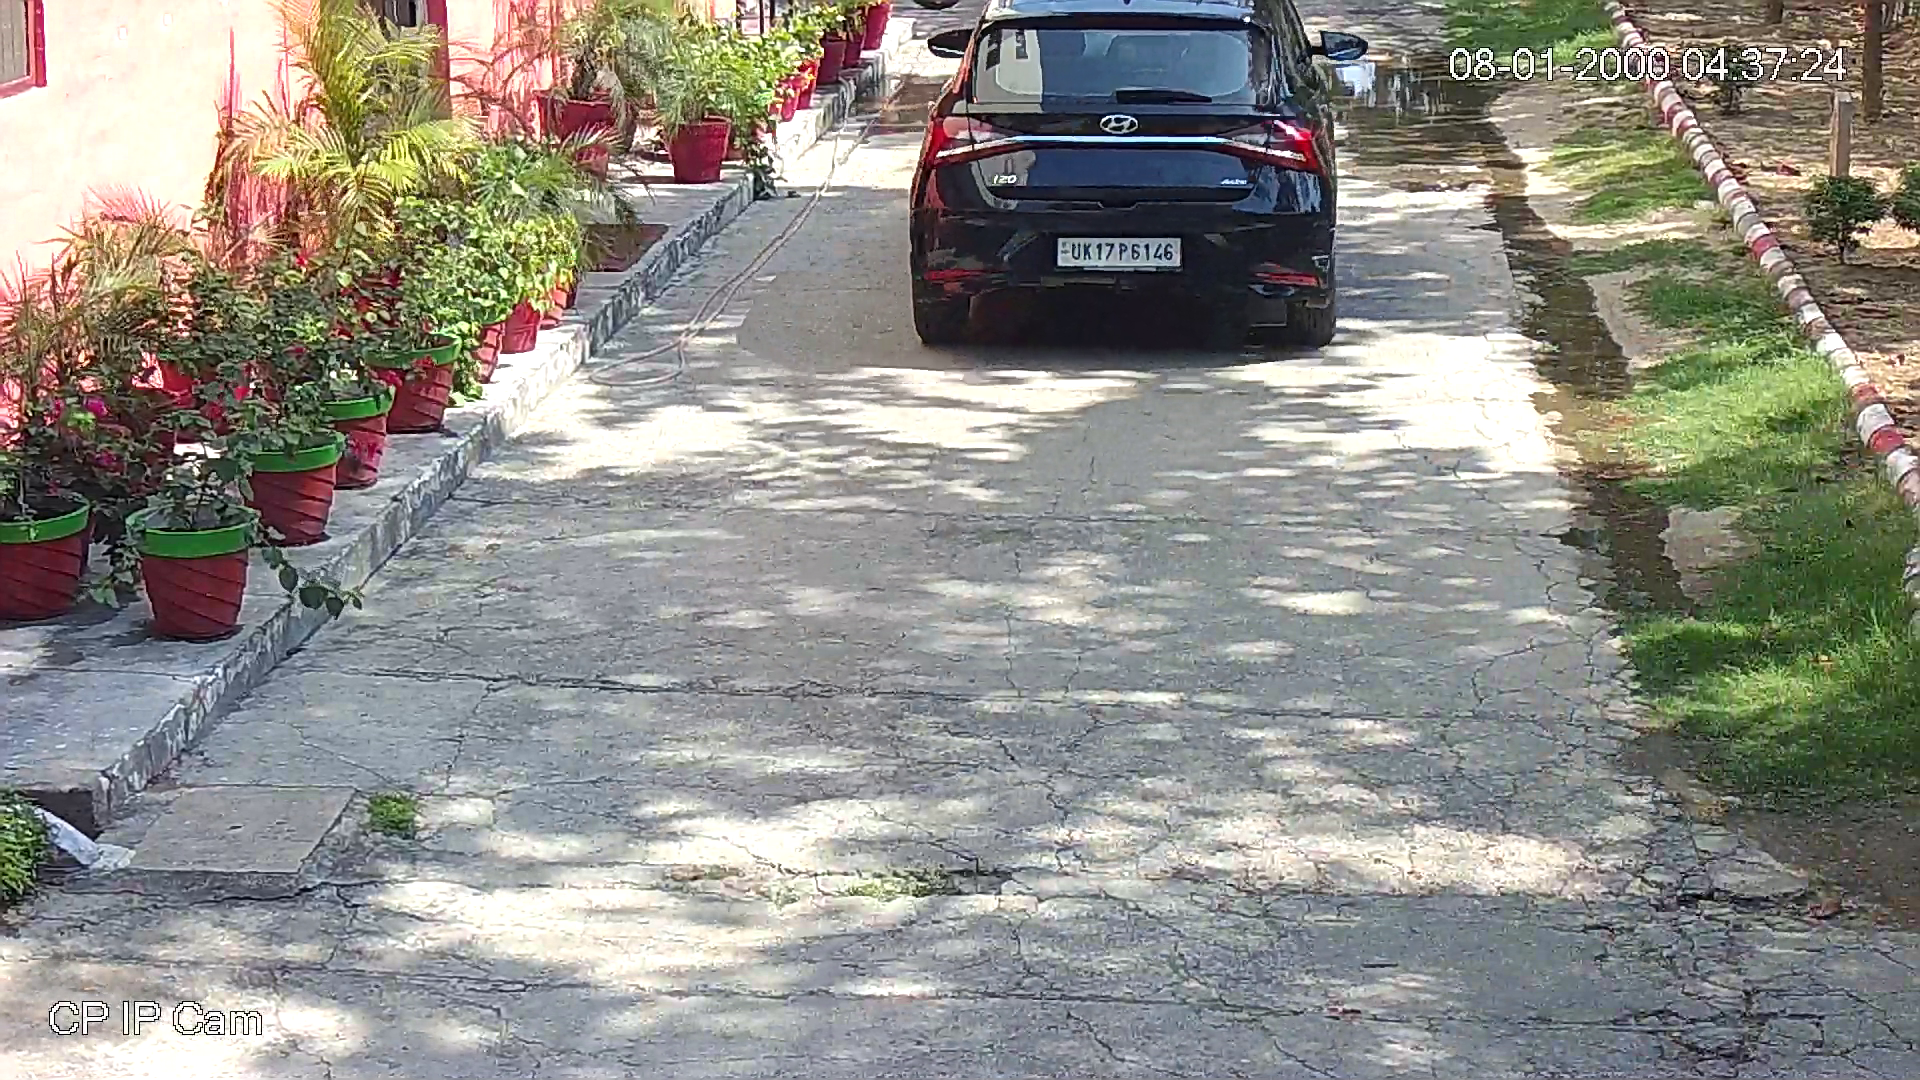plate: (1054, 231, 1188, 276)
